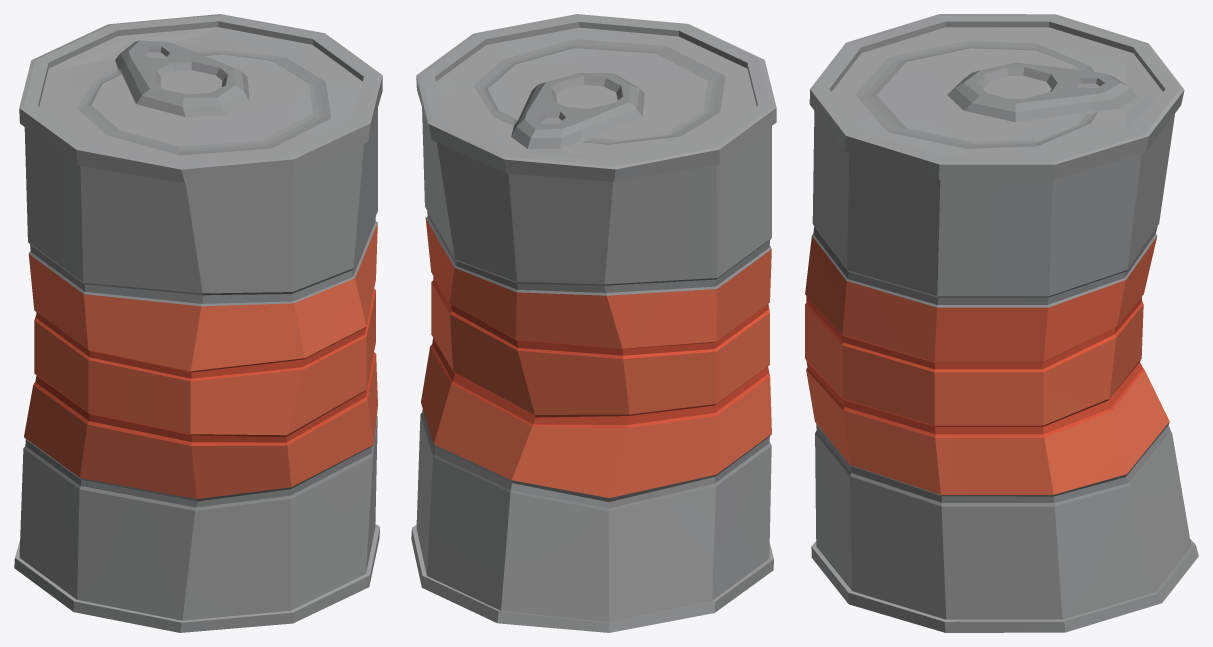
File: closed_can_with_food.glb
3 views of the same model, side by side, from view 1: azimuth 30°, elevation 25°; view 2: azimuth 150°, elevation 25°; view 3: azimuth 270°, elevation 25° (orthographic).
Parts seen in each view (by area): view 1: closed_can_with_food; view 2: closed_can_with_food; view 3: closed_can_with_food.
Boxes of the visible parts, left/top/right/bottom form: closed_can_with_food: left=14, top=14, right=382, bottom=632; closed_can_with_food: left=411, top=14, right=776, bottom=632; closed_can_with_food: left=805, top=14, right=1198, bottom=632.
Bounding box in the file's own units: 0.1046 × 0.1537 × 0.1156.
Materials: 1 (1 with a texture image).
